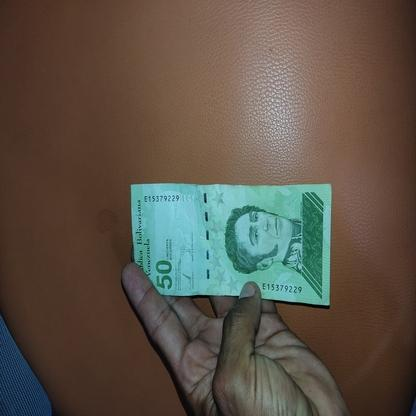vef_front: (128, 183, 332, 306)
